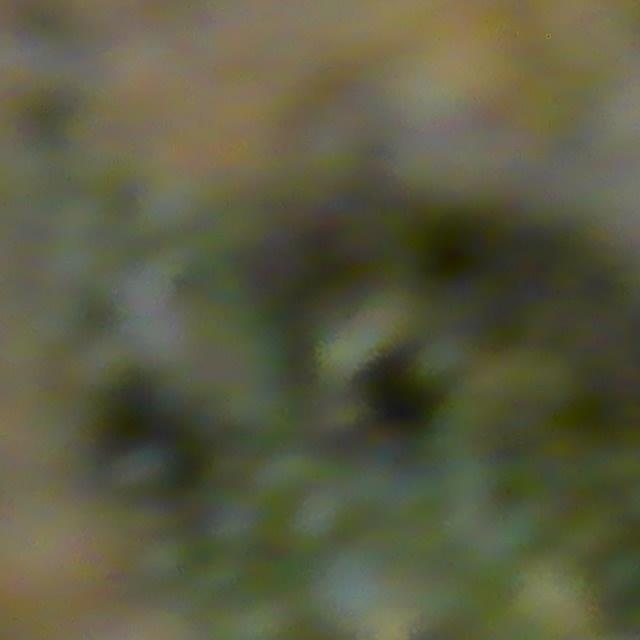SeaGrape: (301, 544, 396, 640), (200, 482, 272, 556), (280, 483, 354, 555)
